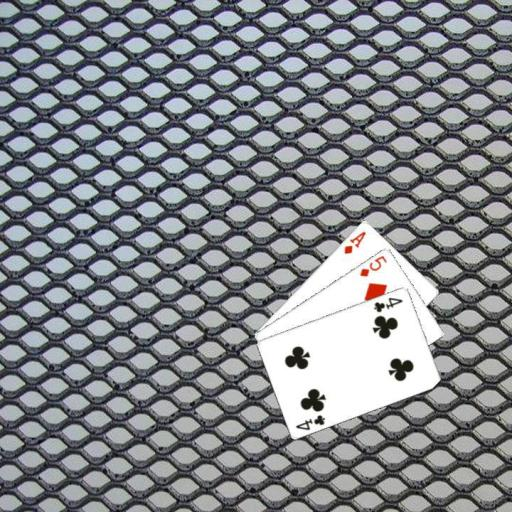4C: (292, 411, 327, 432), (370, 294, 404, 314)
5D: (357, 252, 389, 278)
AD: (341, 228, 368, 255)
